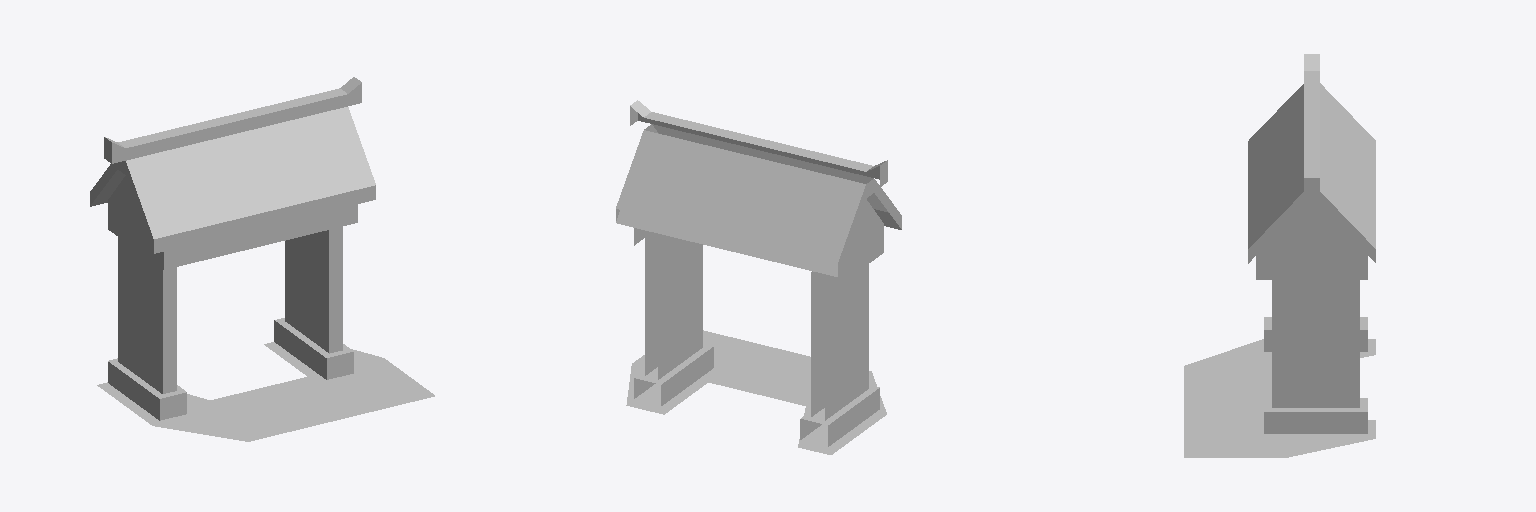
The model's file is Ecruteak City Entryway.obj.
3 views of the same model, side by side, from view 1: azimuth 30°, elevation 25°; view 2: azimuth 150°, elevation 25°; view 3: azimuth 270°, elevation 25° (orthographic).
Visible parts, largest first — view 1: polygon1, polygon0; view 2: polygon1, polygon0; view 3: polygon1, polygon0.
Boxes of the visible parts, x1=… form: polygon1: x1=90, y1=77, x2=375, y2=420; polygon0: x1=97, y1=342, x2=434, y2=441; polygon1: x1=616, y1=100, x2=901, y2=446; polygon0: x1=626, y1=330, x2=886, y2=454; polygon1: x1=1248, y1=54, x2=1375, y2=433; polygon0: x1=1184, y1=339, x2=1375, y2=457.
Size of the model in its own units: 76.04 by 75.42 by 48.